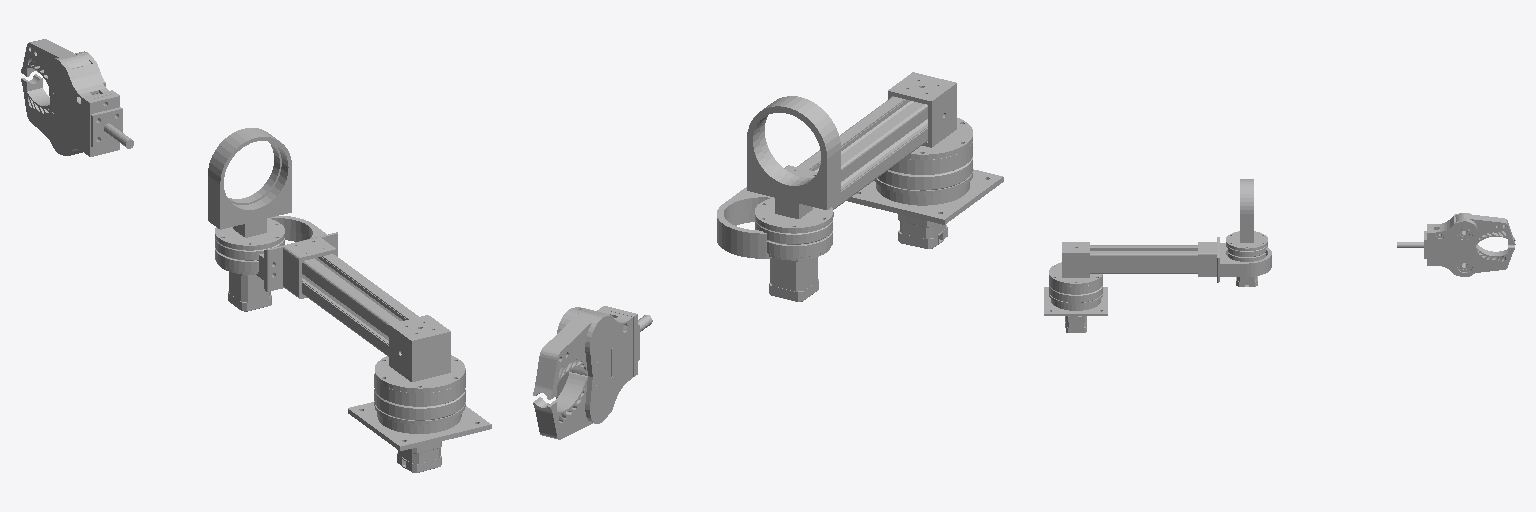
The robot description file, URDF, robot "arm_full_assembly":
<?xml version="1.0" encoding="utf-8"?>
<!-- This URDF was automatically created by SolidWorks to URDF Exporter! Originally created by [author] ([email redacted]) 
     Commit Version: 1.6.0-4-g7f85cfe  Build Version: 1.6.7995.38578
     For more information, please see http://wiki.ros.org/sw_urdf_exporter -->
<robot
  name="arm_full_assembly">
  <link
    name="base_link">
    <inertial>
      <origin
        xyz="8.81459236109933E-06 0.0148335575280781 4.3339682058757E-06"
        rpy="0 0 0" />
      <mass
        value="1.43060909608374" />
      <inertia
        ixx="0.0011234283526043"
        ixy="5.47940542800664E-12"
        ixz="1.24027344861628E-08"
        iyy="0.00210345009526074"
        iyz="2.61573670152943E-10"
        izz="0.00112329840718542" />
    </inertial>
    <visual>
      <origin
        xyz="0 0 0"
        rpy="0 0 0" />
      <geometry>
        <mesh
          filename="package://description/meshes/base_link.STL" />
      </geometry>
      <material
        name="">
        <color
          rgba="0.752941176470588 0.752941176470588 0.752941176470588 1" />
      </material>
    </visual>
    <collision>
      <origin
        xyz="0 0 0"
        rpy="0 0 0" />
      <geometry>
        <mesh
          filename="package://description/meshes/base_link.STL" />
      </geometry>
    </collision>
  </link>
  <link
    name="link 1">
    <inertial>
      <origin
        xyz="-0.112607560505869 -0.0702636475592163 -0.0226268718071088"
        rpy="0 0 0" />
      <mass
        value="4.97377764227934" />
      <inertia
        ixx="0.0044292769400212"
        ixy="6.6245943921174E-08"
        ixz="6.15016713366494E-06"
        iyy="0.00771445180470878"
        iyz="7.31377865315434E-06"
        izz="0.0107736797476312" />
    </inertial>
    <visual>
      <origin
        xyz="0 0 0"
        rpy="0 0 0" />
      <geometry>
        <mesh
          filename="package://description/meshes/link_1.STL" />
      </geometry>
      <material
        name="">
        <color
          rgba="0.752941176470588 0.752941176470588 0.752941176470588 1" />
      </material>
    </visual>
    <collision>
      <origin
        xyz="0 0 0"
        rpy="0 0 0" />
      <geometry>
        <mesh
          filename="package://description/meshes/link_1.STL" />
      </geometry>
    </collision>
  </link>
  <joint
    name="shoulder"
    type="revolute">
    <origin
      xyz="0 0 0.03935"
      rpy="-1.5708 0 -1.5708" />
    <parent
      link="base_link" />
    <child
      link="link 1" />
    <axis
      xyz="0 0 0" />
    <limit
      lower="0"
      upper="0"
      effort="0"
      velocity="0" />
  </joint>
  <link
    name="link 2">
    <inertial>
      <origin
        xyz="0.0356946918537556 -0.000141329711779284 0.0779773042803494"
        rpy="0 0 0" />
      <mass
        value="2.34758133339318" />
      <inertia
        ixx="0.00217202061390902"
        ixy="-1.20331123757817E-10"
        ixz="3.94507422733526E-06"
        iyy="0.00253608135436512"
        iyz="2.29166373476576E-07"
        izz="0.00265320863056675" />
    </inertial>
    <visual>
      <origin
        xyz="0 0 0"
        rpy="0 0 0" />
      <geometry>
        <mesh
          filename="package://description/meshes/link_2.STL" />
      </geometry>
      <material
        name="">
        <color
          rgba="0.752941176470588 0.752941176470588 0.752941176470588 1" />
      </material>
    </visual>
    <collision>
      <origin
        xyz="0 0 0"
        rpy="0 0 0" />
      <geometry>
        <mesh
          filename="package://description/meshes/link_2.STL" />
      </geometry>
    </collision>
  </link>
  <joint
    name="elbow"
    type="revolute">
    <origin
      xyz="-0.34315 -0.07335 -0.037841"
      rpy="0 0 -3.1416" />
    <parent
      link="link 1" />
    <child
      link="link 2" />
    <axis
      xyz="0 0 0" />
    <limit
      lower="0"
      upper="0"
      effort="0"
      velocity="0" />
  </joint>
  <link
    name="hand link">
    <inertial>
      <origin
        xyz="0.0344581021988182 0.0153009553616624 0.0204827082124388"
        rpy="0 0 0" />
      <mass
        value="0.750967399035251" />
      <inertia
        ixx="0.000644136496032528"
        ixy="-3.44034905742044E-05"
        ixz="1.48522113054289E-05"
        iyy="0.000580115693570654"
        iyz="-2.85026358587846E-05"
        izz="0.00106973660677854" />
    </inertial>
    <visual>
      <origin
        xyz="0 0 0"
        rpy="0 0 0" />
      <geometry>
        <mesh
          filename="package://description/meshes/hand_link.STL" />
      </geometry>
      <material
        name="">
        <color
          rgba="0.752941176470588 0.752941176470588 0.752941176470588 1" />
      </material>
    </visual>
    <collision>
      <origin
        xyz="0 0 0"
        rpy="0 0 0" />
      <geometry>
        <mesh
          filename="package://description/meshes/hand_link.STL" />
      </geometry>
    </collision>
  </link>
  <joint
    name="wrist"
    type="fixed">
    <origin
      xyz="0.407675000000002 0.0377779999999983 -0.0140249996246558"
      rpy="0 0 -1.5707963267949" />
    <parent
      link="link 2" />
    <child
      link="hand link" />
    <axis
      xyz="0 0 0" />
  </joint>
</robot>

--- Facts derived from the render (not from the file) ---
The picture shows the robot from 3 angles, left to right: view 1: azimuth 30°, elevation 25°; view 2: azimuth 150°, elevation 25°; view 3: azimuth 270°, elevation 25°; orthographic projection.
Model arm_full_assembly with 4 links and 3 joints (2 revolute, 1 fixed), rooted at base_link, posed every joint at zero.
Visible links, largest first — view 1: link 1, link 2, hand link, base_link; view 2: link 1, link 2, hand link, base_link; view 3: link 1, hand link, link 2, base_link.
Boxes of the visible links, x1,y1,x2,y2 form: link 1: (256, 216, 465, 453); link 2: (208, 128, 291, 311); hand link: (21, 39, 133, 156); base_link: (348, 402, 491, 472); link 1: (717, 72, 972, 258); link 2: (747, 96, 840, 301); hand link: (533, 306, 652, 439); base_link: (847, 169, 1003, 248); link 1: (1049, 237, 1271, 321); hand link: (1397, 213, 1515, 276); link 2: (1226, 179, 1267, 286); base_link: (1044, 287, 1107, 332).
Bounding box of the posed robot: 0.1513 × 0.9457 × 0.3099 m (x, y, z).
Meshes: 4 distinct files referenced, 4 mesh visuals loaded (4 binary STL).